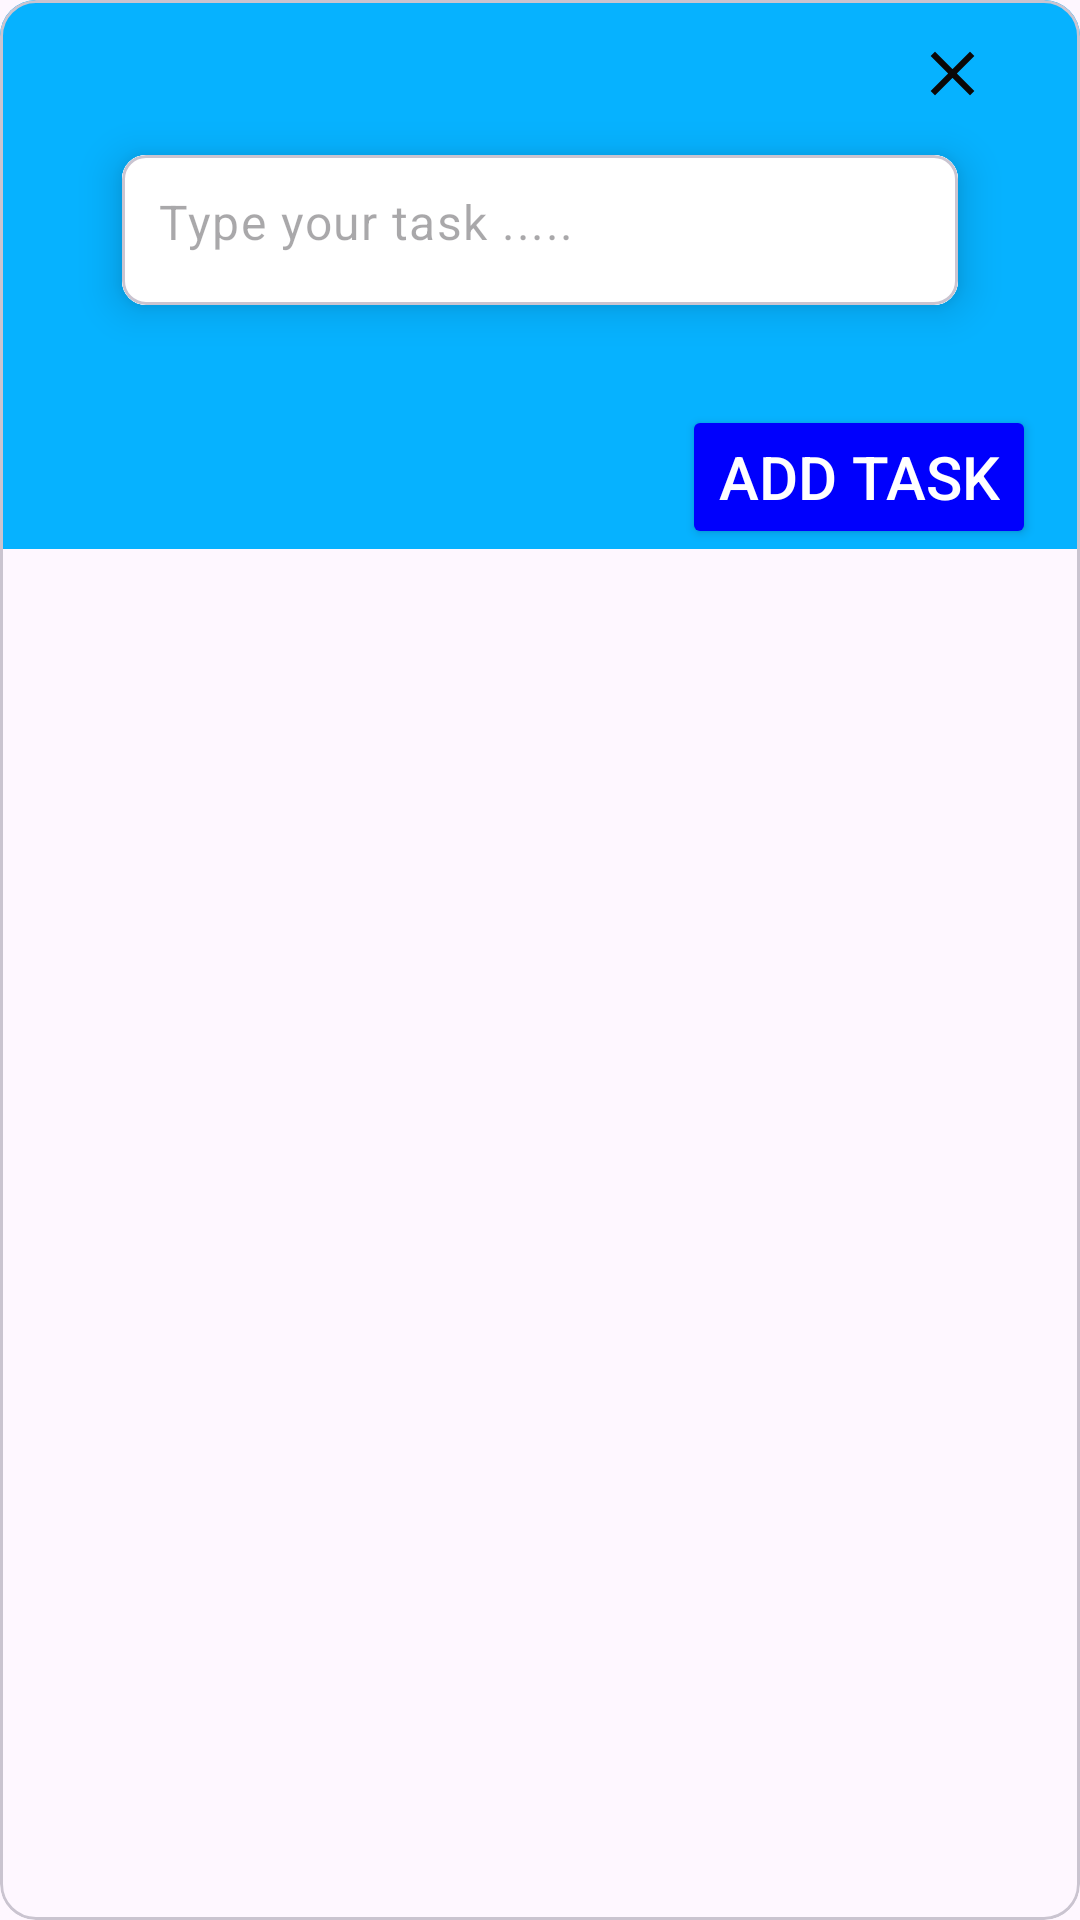

Named icons in this screenshot (1080×1920) and their centers, (x,y):
close: (952,73)
